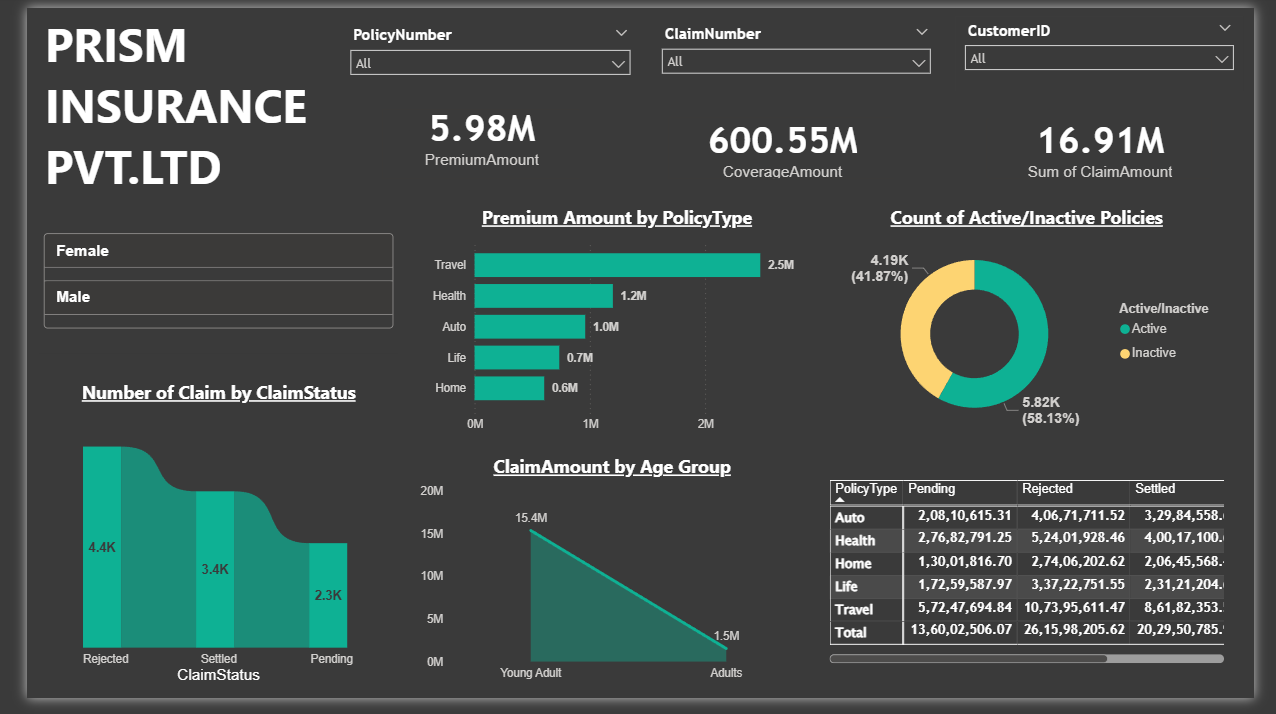

Layout of this report page (visuals, bound fields, positions):
{"tool":"powerbi","page":{"name":"Page 1","canvas":[1280,720],"ordinal":0},"visuals":[{"type":"slicer","fields":{"Values":["InsuranceData.PolicyNumber"]},"box":[327.8,13.3,312.2,83.3],"z":0},{"type":"slicer","fields":{"Values":["InsuranceData.ClaimNumber"]},"box":[652.6,12.8,300.7,93.4],"z":1000},{"type":"slicer","fields":{"Values":["InsuranceData.CustomerID"]},"box":[968.7,9,300.7,93.4],"z":2000},{"type":"textbox","box":[13.3,0,314.4,241.1],"z":3000},{"type":"cardVisual","fields":{"Data":["Sum(InsuranceData.PremiumAmount)"]},"box":[353.8,88.8,240,107.5],"z":4000},{"type":"cardVisual","fields":{"Data":["Sum(InsuranceData.CoverageAmount)"]},"box":[652.5,97.5,270,98.8],"z":5000},{"type":"cardVisual","fields":{"Data":["Sum(InsuranceData.ClaimAmount)"]},"box":[983.8,97.5,270,98.8],"z":6000},{"type":"ribbonChart","fields":{"Category":["InsuranceData.ClaimStatus"],"Y":["CountNonNull(InsuranceData.ClaimStatus)"]},"box":[6.2,387.5,387.5,322.5],"z":7000},{"type":"cardVisual","fields":{"Data":["Count(InsuranceData.Gender)","Count(InsuranceData.Gender)"],"Rows":["InsuranceData.Gender"]},"box":[12.5,210,375,150],"z":8000},{"type":"barChart","fields":{"Category":["InsuranceData.PolicyType"],"Y":["Sum(InsuranceData.PremiumAmount)"]},"box":[415,205,401.2,245],"z":9000},{"type":"lineChart","title":" ClaimAmount by Age Group ","fields":{"Category":["InsuranceData.Age Group "],"Y":["Sum(InsuranceData.ClaimAmount)"]},"box":[405,465,411.2,245],"z":10000},{"type":"donutChart","title":"Count of Active/Inactive Policies","fields":{"Category":["InsuranceData.Active/Inactive"],"Y":["CountNonNull(InsuranceData.Active/Inactive)"]},"box":[832.5,205,421.2,245],"z":11000},{"type":"pivotTable","fields":{"Values":["Sum(InsuranceData.CoverageAmount)"],"Rows":["InsuranceData.PolicyType"],"Columns":["InsuranceData.ClaimStatus"]},"box":[832.5,487.5,421.2,201.2],"z":12000}]}

Visuals, with their boxes in screenshot pixels (x1, y1, x2, y2), scaled from the page's 1280x720 canvas onto the 1276x714 screenshot:
slicer - InsuranceData.PolicyNumber: 327,13,638,96
slicer - InsuranceData.ClaimNumber: 651,13,950,105
slicer - InsuranceData.CustomerID: 966,9,1265,102
textbox: 13,0,327,239
cardVisual - Sum(InsuranceData.PremiumAmount): 353,88,592,195
cardVisual - Sum(InsuranceData.CoverageAmount): 650,97,920,195
cardVisual - Sum(InsuranceData.ClaimAmount): 981,97,1250,195
ribbonChart - InsuranceData.ClaimStatus x CountNonNull(InsuranceData.ClaimStatus): 6,384,392,704
cardVisual - Count(InsuranceData.Gender) x Count(InsuranceData.Gender): 12,208,386,357
barChart - InsuranceData.PolicyType x Sum(InsuranceData.PremiumAmount): 414,203,814,446
" ClaimAmount by Age Group " lineChart: 404,461,814,704
"Count of Active/Inactive Policies" donutChart: 830,203,1250,446
pivotTable - Sum(InsuranceData.CoverageAmount) x InsuranceData.PolicyType: 830,483,1250,683
